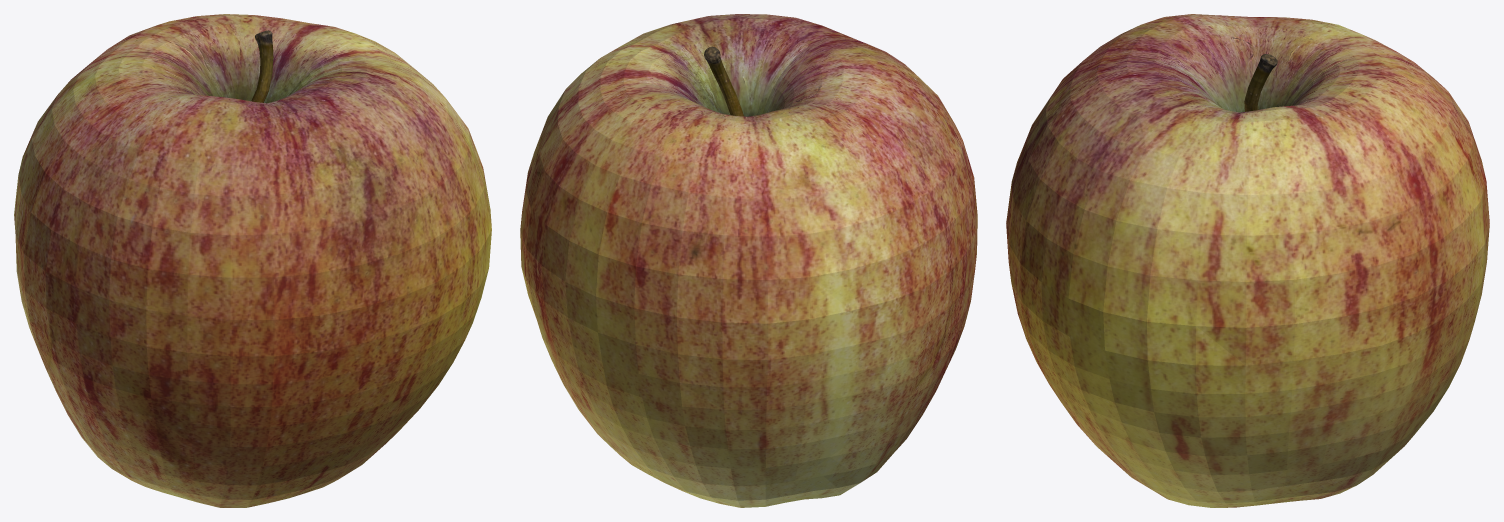
File: maca.glb
The picture shows the model from 3 angles, left to right: view 1: azimuth 30°, elevation 25°; view 2: azimuth 150°, elevation 25°; view 3: azimuth 270°, elevation 25°; orthographic projection. The views are drawn at different scales.
Size of the model in its own units: 0.1051 by 0.1048 by 0.1043.
Materials: 1 (1 with a texture image).
